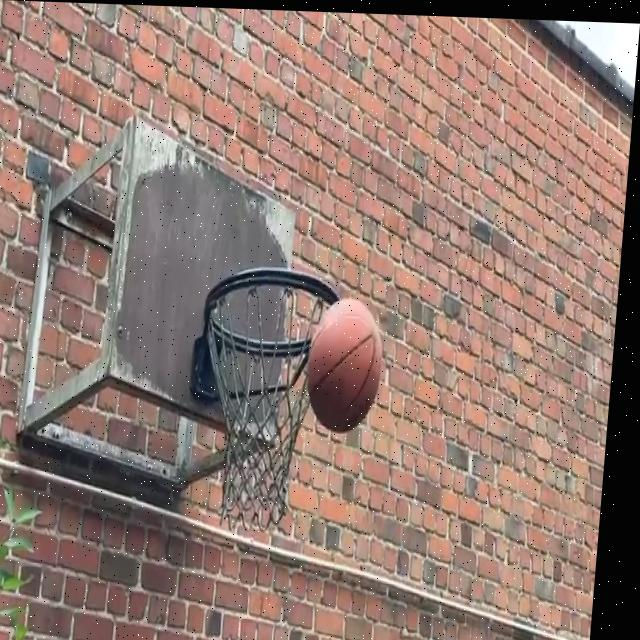Basketball: (301, 298, 387, 435)
